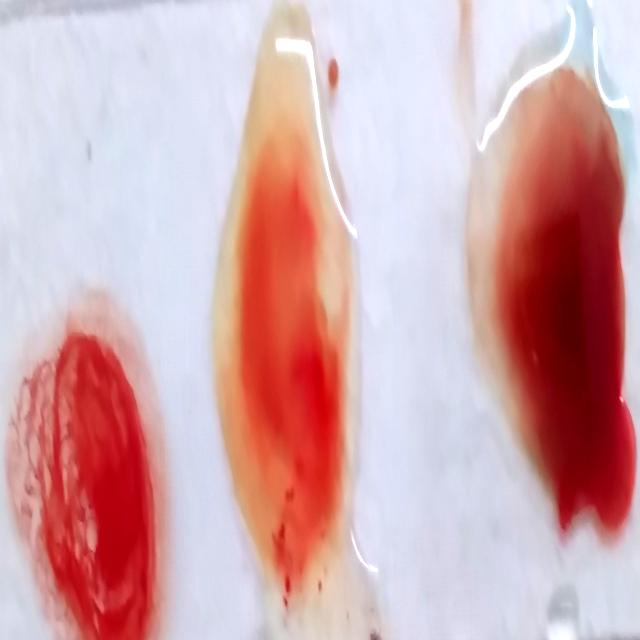D: (21, 314, 152, 640)
